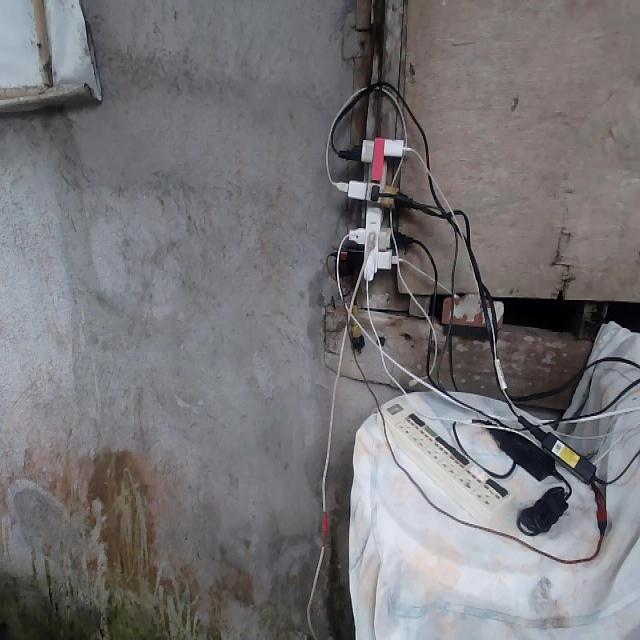-: (327, 132, 425, 284)
